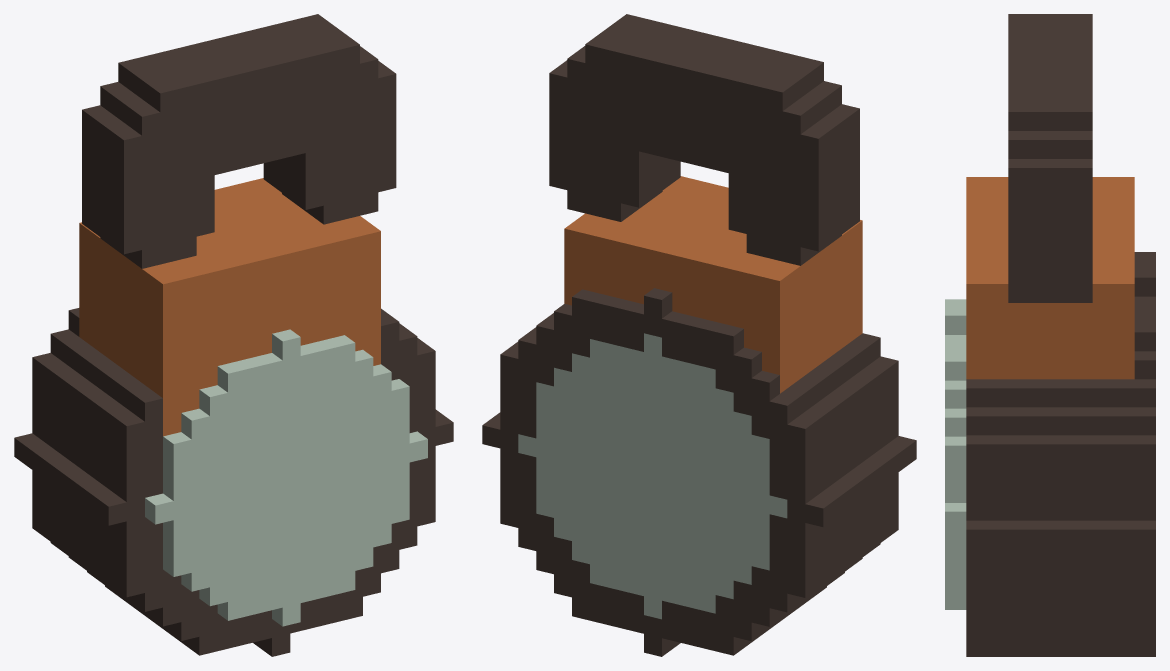
The model's file is voxel_32_10020.glb.
3 renders of one model, left to right at view 1: azimuth 30°, elevation 25°; view 2: azimuth 150°, elevation 25°; view 3: azimuth 270°, elevation 25°, orthographic.
Visible parts, largest first — view 1: prop_10020; view 2: prop_10020; view 3: prop_10020.
Part boxes in pixels (x1,y1,x2,y2): prop_10020: [14, 14, 453, 656]; prop_10020: [482, 14, 916, 656]; prop_10020: [945, 14, 1155, 656].
Size of the model in its own units: 0.4928 by 0.7781 by 0.2594.
